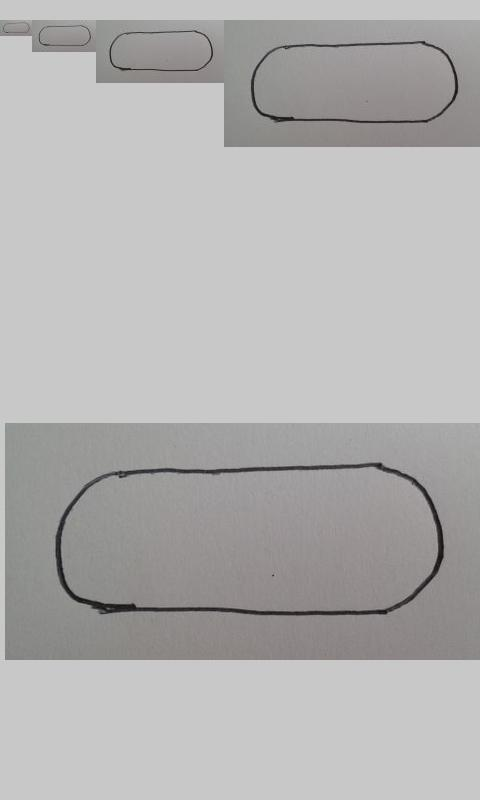chip: (53, 463, 445, 617), (249, 40, 459, 124), (109, 29, 213, 72), (38, 25, 91, 47), (3, 22, 30, 34)
